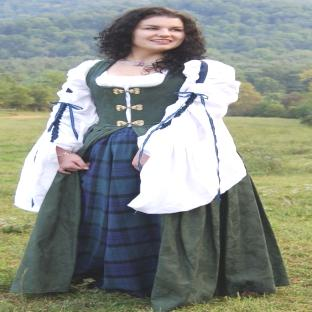Human: (12, 7, 289, 310)
